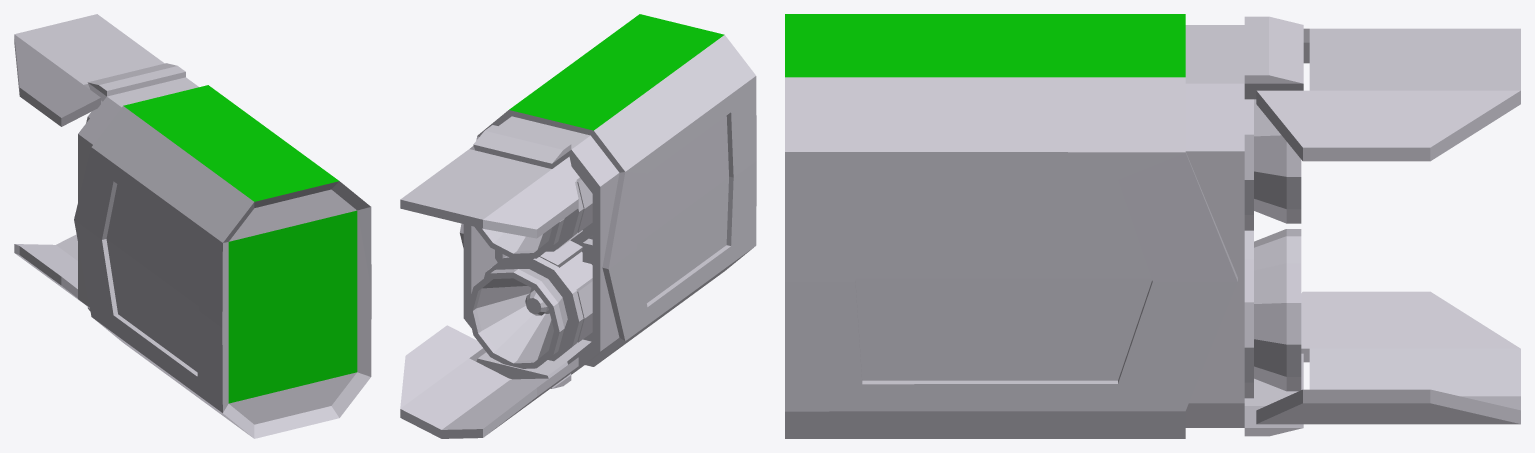
The model's file is part.flap.fbx.
The picture shows the model from 3 angles, left to right: view 1: azimuth 30°, elevation 25°; view 2: azimuth 150°, elevation 25°; view 3: azimuth 270°, elevation 25°; orthographic projection. The views are drawn at different scales.
Visible parts, largest first — view 1: part.flap; view 2: part.flap; view 3: part.flap.
Boxes of the visible parts, x1,y1,x2,y2 form: part.flap: [14, 14, 371, 438]; part.flap: [400, 14, 756, 438]; part.flap: [785, 14, 1520, 438].
Size of the model in its own units: 0.8677 by 1.33 by 2.43.
